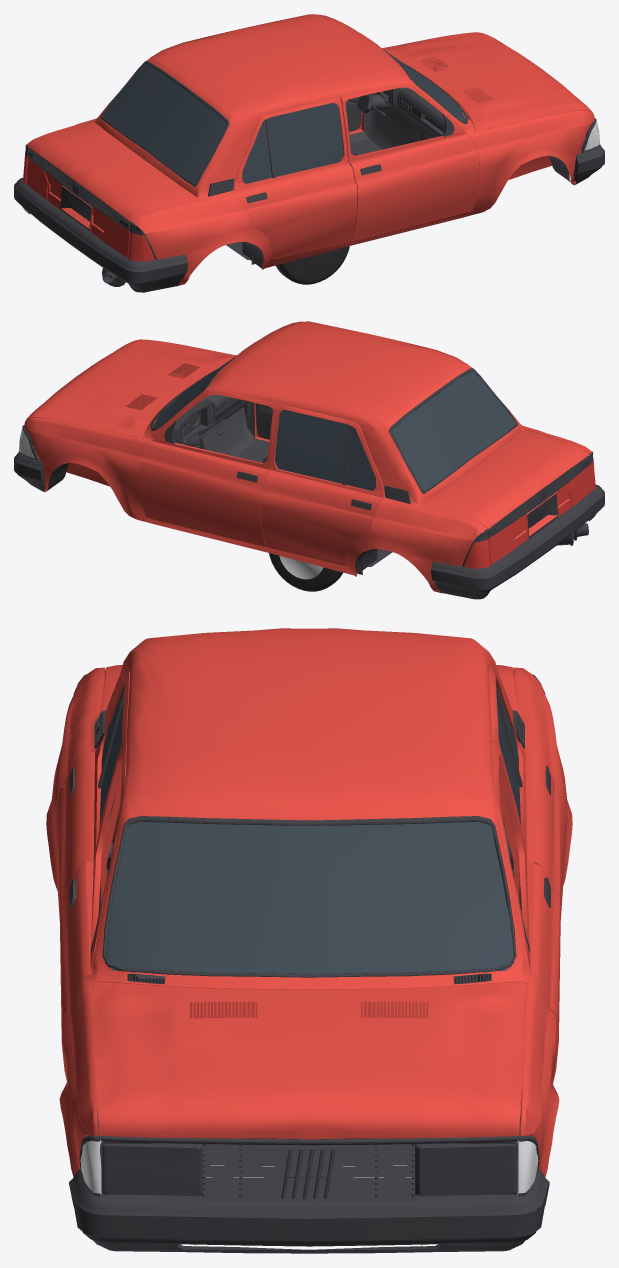
The picture shows the model from 3 angles, top to bottom: view 1: azimuth 30°, elevation 25°; view 2: azimuth 150°, elevation 25°; view 3: azimuth 270°, elevation 25°; orthographic projection. The views are drawn at different scales.
Parts seen in each view (by area): view 1: carroceria, goma; view 2: carroceria, goma, llanta; view 3: carroceria.
Boxes of the visible parts, <box> form: carroceria: <box>14,14,604,292</box>; goma: <box>275,246,349,284</box>; carroceria: <box>14,321,604,599</box>; goma: <box>269,553,342,591</box>; llanta: <box>279,555,323,579</box>; carroceria: <box>46,628,572,1253</box>.
Bounding box in the file's own units: 3.88 × 1.77 × 1.8.
